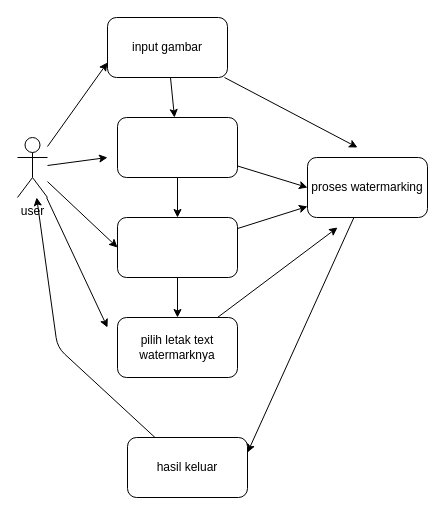
Image size: 445x515. Some labels were removed from this diagram. The shapes that lost their labels are listed below. From the top down, each one's centre as x and y in pixels, then its label:
At (x=177, y=147): "pilih text watermark".
At (x=177, y=247): "pilih warna".
